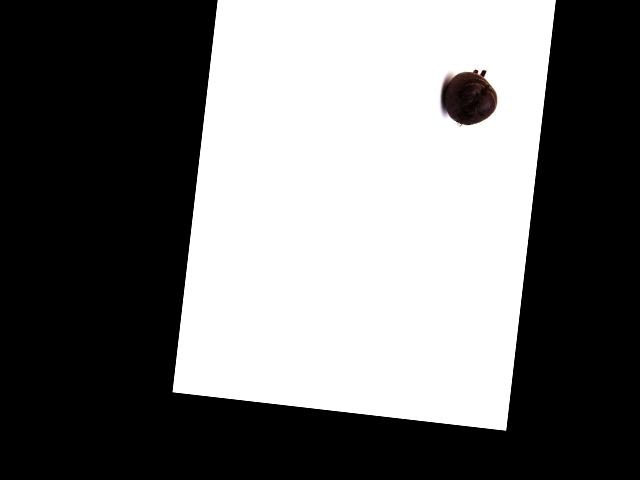beet: (439, 66, 500, 128)
